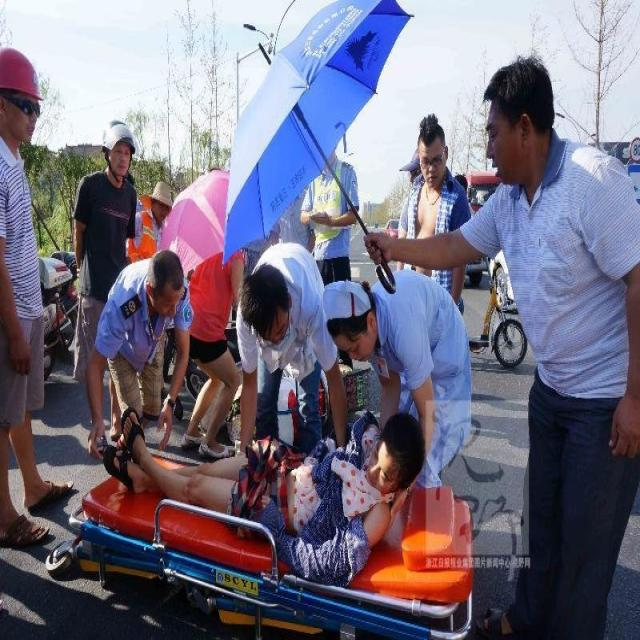10-: (0, 25, 635, 628)
down: (81, 387, 428, 581)
